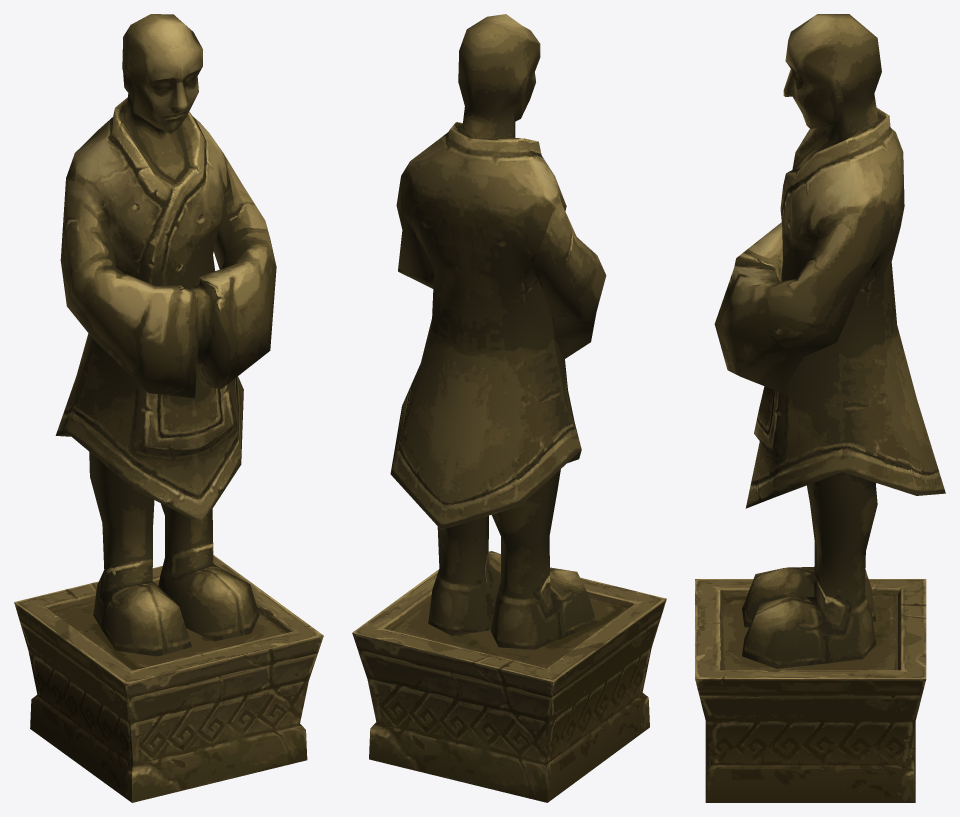
The model's file is esthshrine_figure_statue_01_2a350d43.glb.
3 renders of one model, left to right at view 1: azimuth 30°, elevation 25°; view 2: azimuth 150°, elevation 25°; view 3: azimuth 270°, elevation 25°, orthographic. The views are drawn at different scales.
Bounding box in the file's own units: 1.15 × 3.93 × 1.2.
Materials: 2 (2 with a texture image).
